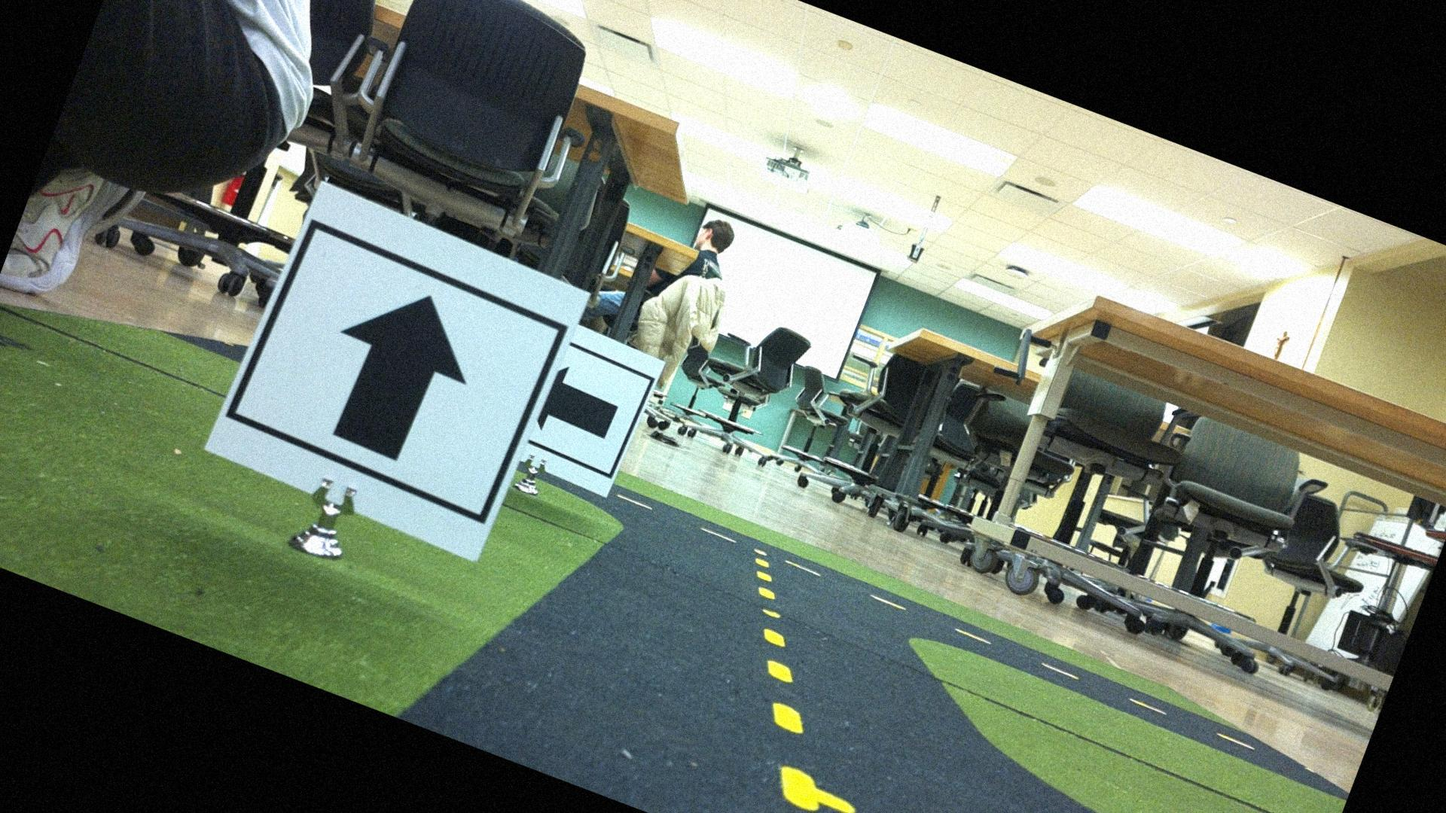gostraight: (215, 187, 586, 568)
yellowline: (679, 549, 891, 812)
